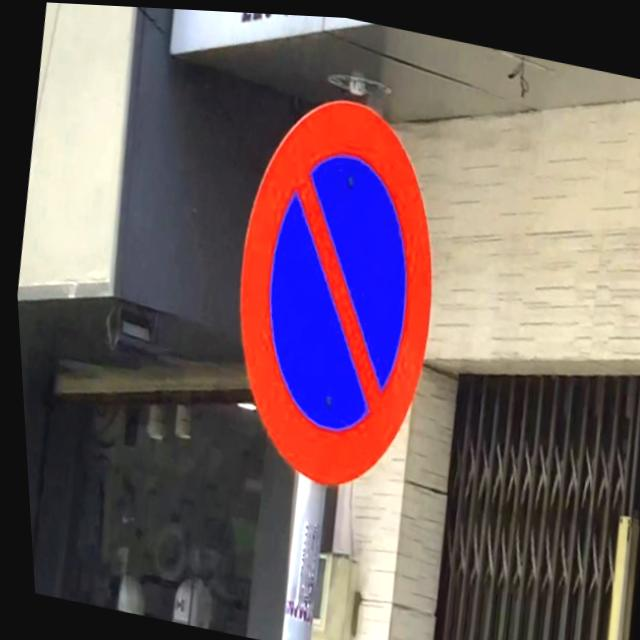Cam do xe: (197, 72, 468, 504)
